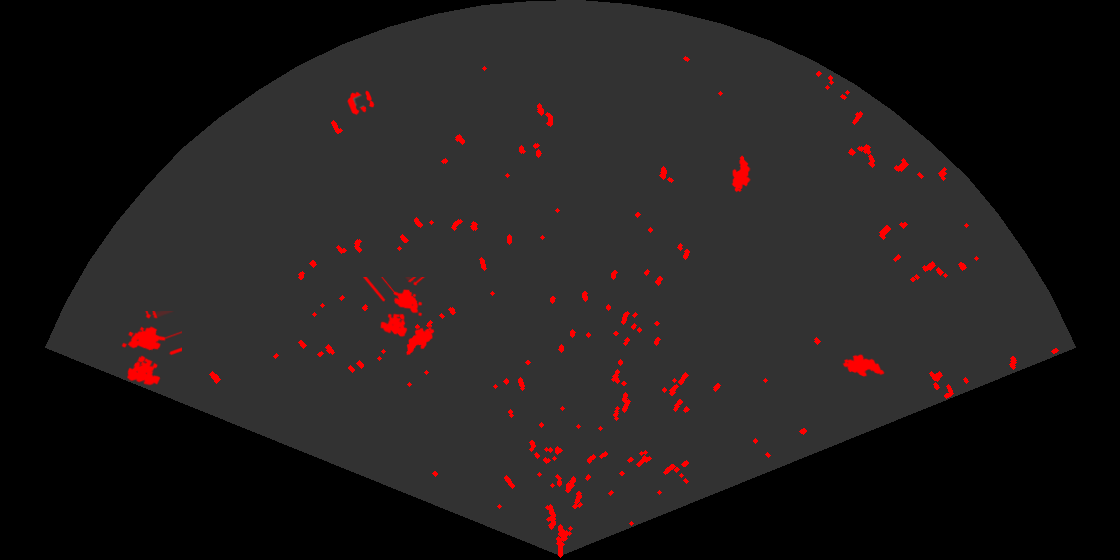AUV: (841, 352, 886, 378), (405, 326, 436, 357), (730, 154, 751, 194)
ball: (346, 89, 376, 117)
cage: (120, 311, 182, 387), (363, 277, 427, 339)
